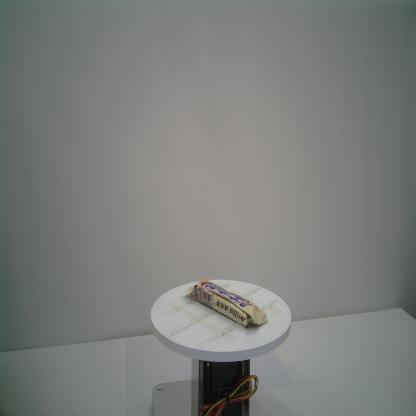Chocolate: (185, 277, 270, 329)
